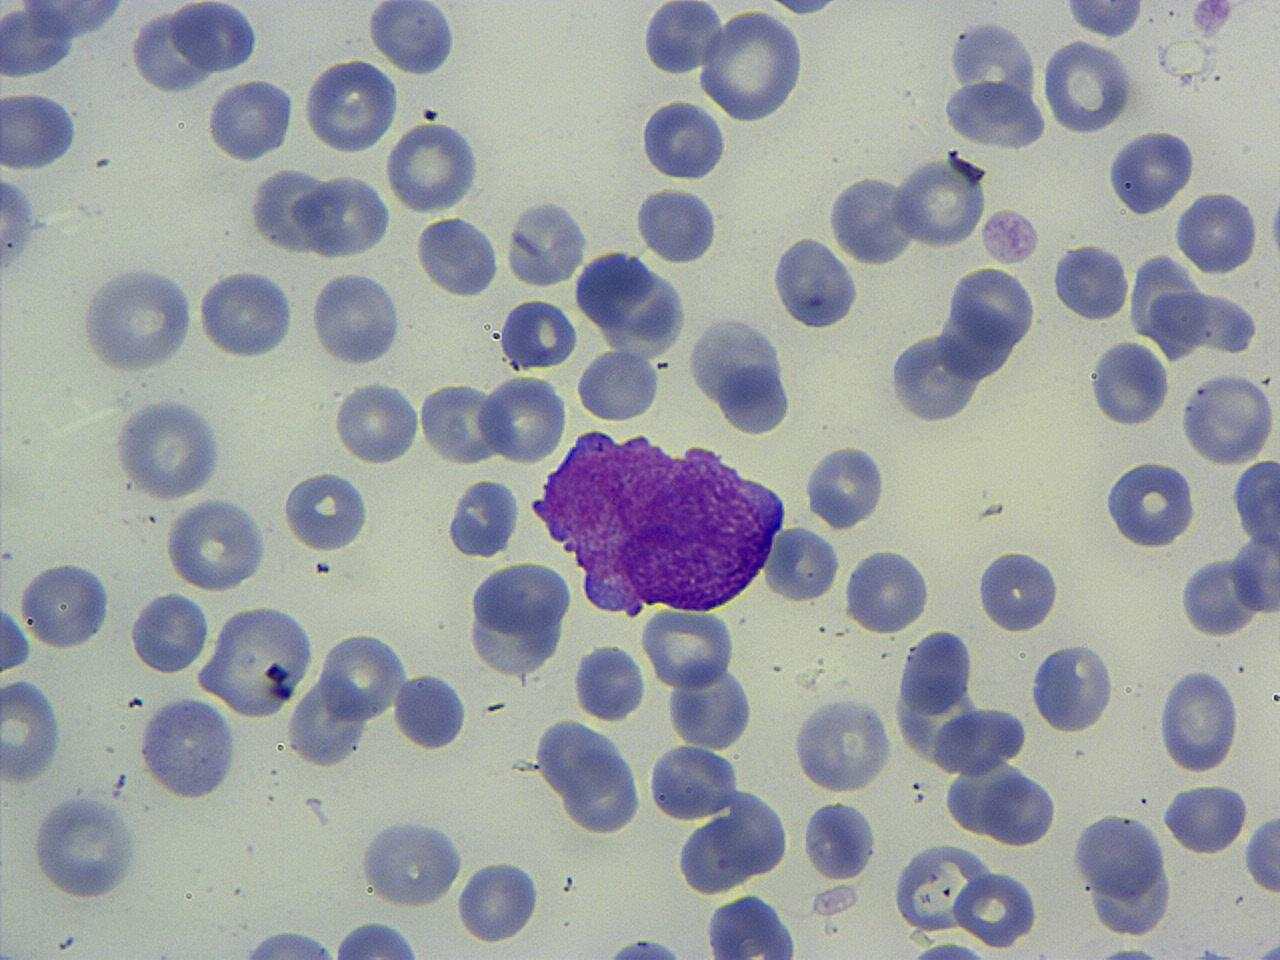Platelets: (638, 97, 728, 181), (633, 182, 722, 263), (0, 168, 45, 280), (598, 935, 692, 960), (1189, 1, 1233, 38), (1095, 940, 1163, 960), (1266, 186, 1280, 271), (1255, 940, 1280, 960), (1196, 944, 1226, 960), (314, 561, 331, 575)
RBC: (194, 599, 315, 722), (79, 261, 197, 375), (696, 6, 808, 125), (112, 394, 226, 502), (788, 694, 894, 795), (162, 496, 269, 594), (355, 816, 466, 910), (194, 265, 298, 361), (1178, 370, 1278, 468), (302, 56, 400, 155), (308, 267, 404, 368), (382, 118, 482, 214), (890, 153, 986, 251), (17, 556, 115, 651), (1041, 37, 1135, 136), (1155, 666, 1241, 774), (824, 169, 918, 266), (1099, 457, 1197, 549), (296, 168, 395, 259), (891, 839, 983, 934), (476, 372, 568, 466), (316, 630, 406, 724), (502, 197, 592, 290), (664, 662, 756, 752), (841, 546, 933, 636), (640, 605, 736, 690), (452, 858, 542, 947), (946, 264, 1040, 349), (940, 79, 1049, 152), (205, 76, 295, 164), (280, 468, 372, 554), (331, 379, 420, 466), (1174, 186, 1258, 278), (643, 742, 739, 822), (974, 547, 1062, 634), (802, 442, 888, 531), (638, 97, 728, 181), (1086, 338, 1170, 428), (950, 868, 1041, 950), (413, 214, 501, 298), (418, 380, 502, 467), (128, 588, 211, 676), (632, 184, 722, 264), (1, 673, 64, 787), (1050, 239, 1134, 323), (799, 796, 880, 881), (1161, 780, 1249, 857), (763, 522, 843, 606), (170, 0, 258, 76), (574, 346, 662, 422), (2, 91, 81, 173), (390, 671, 469, 753), (571, 640, 648, 722), (639, 2, 724, 76), (0, 2, 78, 82), (498, 295, 578, 372), (984, 768, 1057, 850), (324, 919, 432, 959), (976, 205, 1040, 266), (1244, 806, 1280, 898), (1154, 34, 1210, 82), (0, 600, 32, 677)
WBC: (531, 421, 789, 623), (891, 624, 996, 768), (197, 599, 320, 721), (942, 19, 1051, 156), (685, 311, 796, 438), (467, 556, 579, 681), (1070, 806, 1176, 938), (529, 718, 646, 836), (697, 3, 810, 125), (81, 260, 197, 374), (26, 793, 142, 901), (575, 250, 689, 358), (676, 786, 786, 896), (136, 694, 240, 802), (164, 494, 272, 596), (356, 813, 468, 911), (790, 694, 896, 796), (194, 263, 299, 363), (884, 328, 990, 426), (1182, 368, 1280, 469), (311, 266, 406, 370), (15, 556, 114, 652), (1100, 456, 1200, 551), (826, 170, 916, 271), (770, 231, 860, 331), (295, 168, 392, 260), (318, 630, 409, 727), (1028, 636, 1116, 736), (1104, 125, 1198, 218), (501, 195, 591, 292), (284, 674, 373, 772), (844, 543, 937, 636), (1229, 447, 1280, 615), (280, 467, 375, 557), (665, 659, 754, 754), (974, 545, 1063, 634), (1177, 552, 1265, 642), (646, 738, 740, 822), (803, 442, 890, 532), (455, 860, 543, 948), (414, 211, 500, 300), (206, 76, 292, 164), (640, 98, 730, 181), (365, 0, 462, 77), (128, 586, 212, 674), (636, 185, 726, 267), (798, 797, 880, 883), (1161, 779, 1249, 859), (0, 86, 80, 174), (702, 890, 802, 960), (1051, 238, 1131, 325), (168, 0, 260, 75), (575, 346, 663, 424), (446, 472, 522, 562), (641, 0, 724, 80), (392, 670, 470, 754), (499, 294, 578, 374), (0, 2, 82, 78), (572, 640, 646, 724), (0, 168, 46, 290), (5, 0, 135, 42), (222, 924, 350, 958), (326, 920, 432, 959), (979, 204, 1042, 266), (1242, 806, 1280, 900), (1059, 0, 1149, 38)
